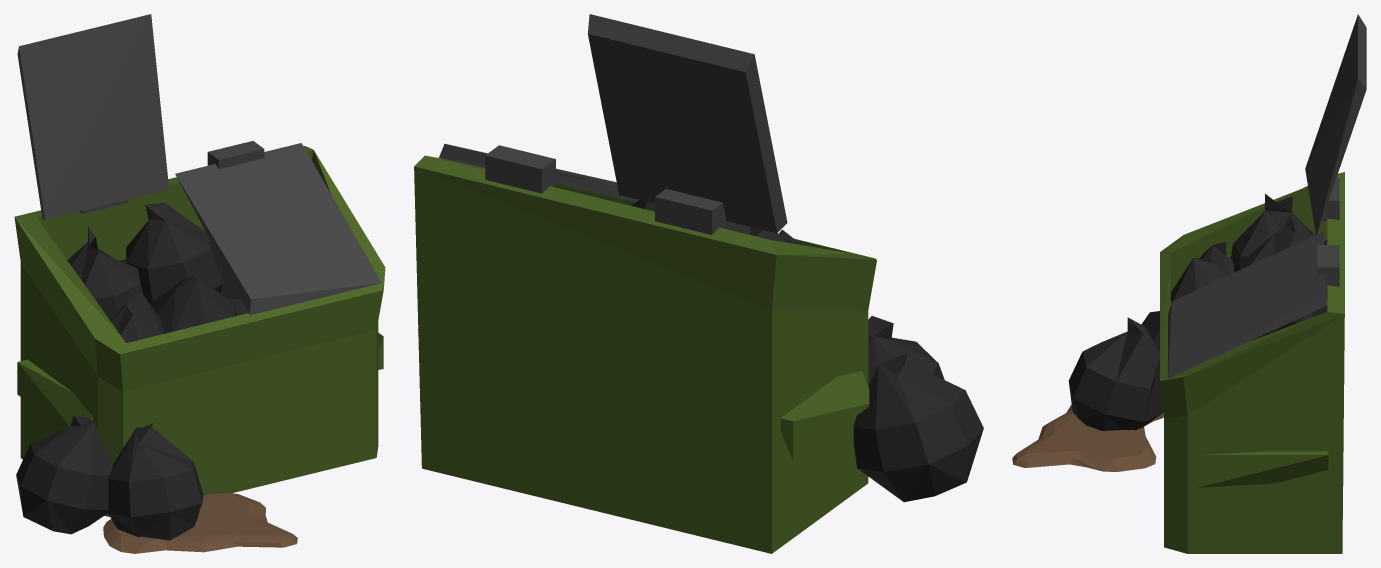
File: trash_container_lod.glb
The picture shows the model from 3 angles, left to right: view 1: azimuth 30°, elevation 25°; view 2: azimuth 150°, elevation 25°; view 3: azimuth 270°, elevation 25°; orthographic projection. The views are drawn at different scales.
Visible parts, largest first — view 1: TrashContainer_Open; view 2: TrashContainer_Open; view 3: TrashContainer_Open.
Boxes of the visible parts, x1=… form: TrashContainer_Open: x1=14, y1=14, x2=385, y2=553; TrashContainer_Open: x1=414, y1=14, x2=983, y2=553; TrashContainer_Open: x1=1012, y1=14, x2=1366, y2=553.
Bounding box in the file's own units: 3.16 × 3.34 × 2.62.
